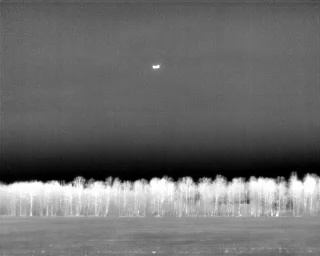DRONE: (149, 60, 165, 74)
